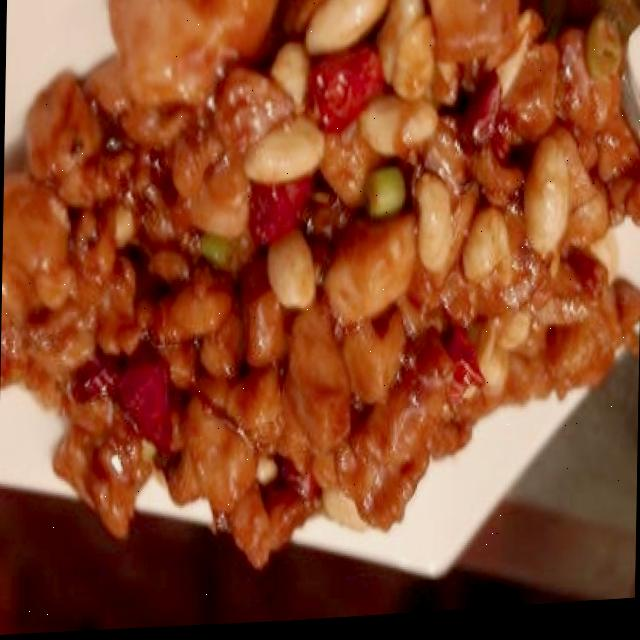鸡肉料理 含炸鸡: (1, 0, 640, 578)
